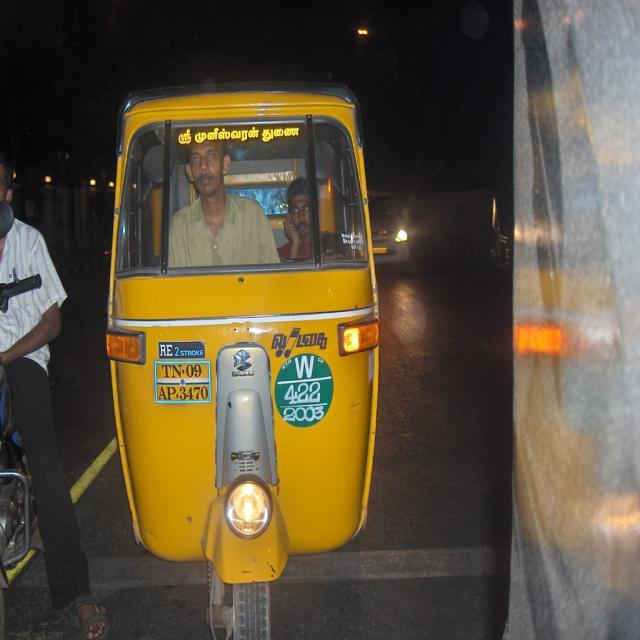car: (369, 185, 410, 264)
